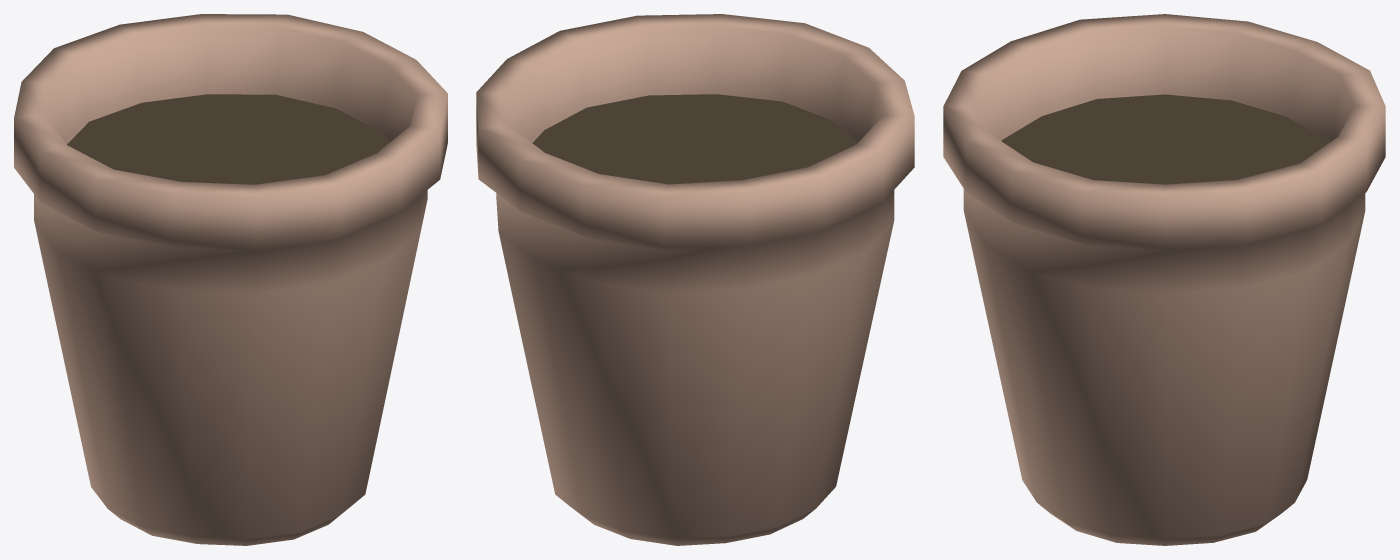
Rendered from CM_BotanicalPlanterKit01_Pot_Small.fbx.
The picture shows the model from 3 angles, left to right: view 1: azimuth 30°, elevation 25°; view 2: azimuth 150°, elevation 25°; view 3: azimuth 270°, elevation 25°; orthographic projection.
Visible parts, largest first — view 1: CM_BotanicalPlanterKit01_Pot_Small_Clay, CM_BotanicalPlanterKit01_Pot_Small_Soil; view 2: CM_BotanicalPlanterKit01_Pot_Small_Clay, CM_BotanicalPlanterKit01_Pot_Small_Soil; view 3: CM_BotanicalPlanterKit01_Pot_Small_Clay, CM_BotanicalPlanterKit01_Pot_Small_Soil.
Boxes of the visible parts, box(x1,y1,x2,y2) form: CM_BotanicalPlanterKit01_Pot_Small_Clay: box(14, 14, 447, 545); CM_BotanicalPlanterKit01_Pot_Small_Soil: box(67, 94, 389, 184); CM_BotanicalPlanterKit01_Pot_Small_Clay: box(476, 14, 914, 545); CM_BotanicalPlanterKit01_Pot_Small_Soil: box(532, 94, 857, 184); CM_BotanicalPlanterKit01_Pot_Small_Clay: box(943, 14, 1385, 545); CM_BotanicalPlanterKit01_Pot_Small_Soil: box(1001, 94, 1329, 184).
Size of the model in its own units: 0.3253 by 0.32 by 0.3315.
